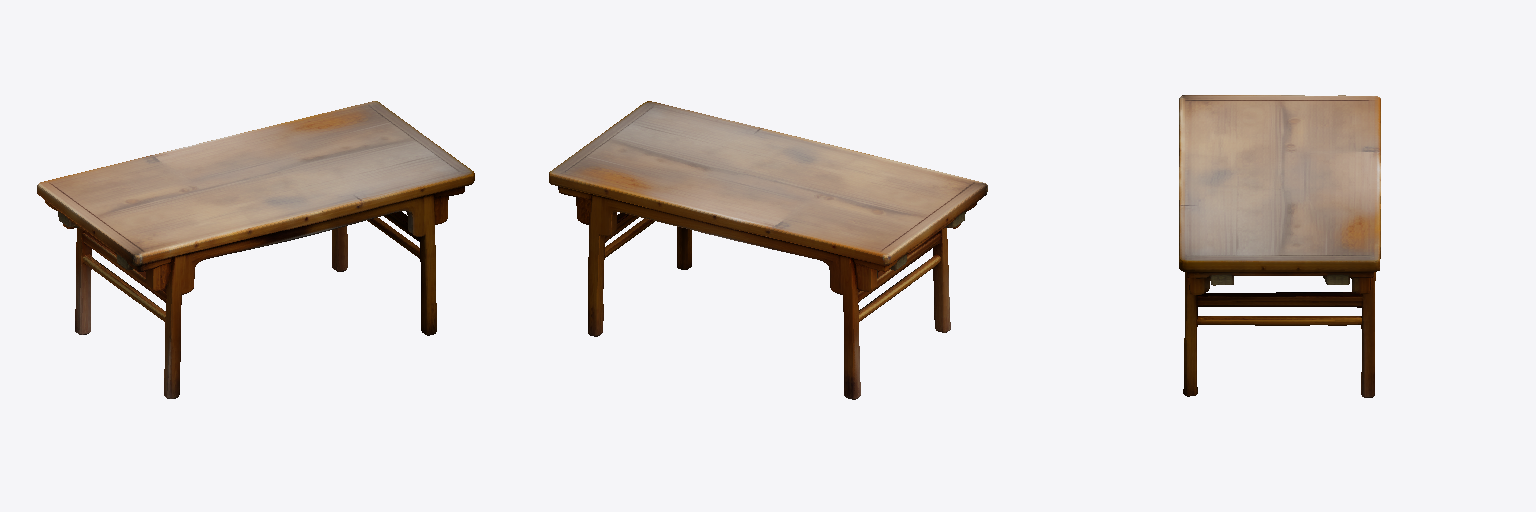
3 renders of one model, left to right at view 1: azimuth 30°, elevation 25°; view 2: azimuth 150°, elevation 25°; view 3: azimuth 270°, elevation 25°, orthographic.
Parts seen in each view (by area): view 1: geometry_0; view 2: geometry_0; view 3: geometry_0.
Boxes of the visible parts, x1,y1,x2,y2 form: geometry_0: [37, 101, 474, 398]; geometry_0: [549, 101, 987, 399]; geometry_0: [1179, 95, 1380, 397].
Bounding box in the file's own units: 1 × 0.4363 × 0.5131.
1 materials, 1 textured.